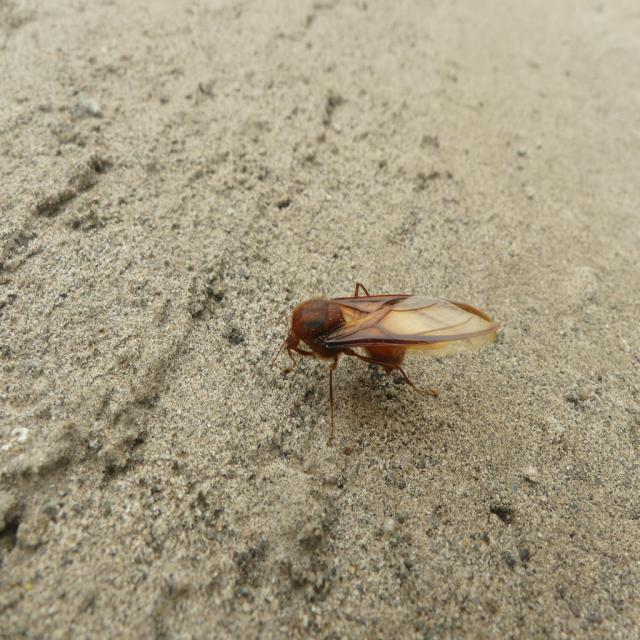Alive-Male-Alate: (270, 280, 502, 442)
